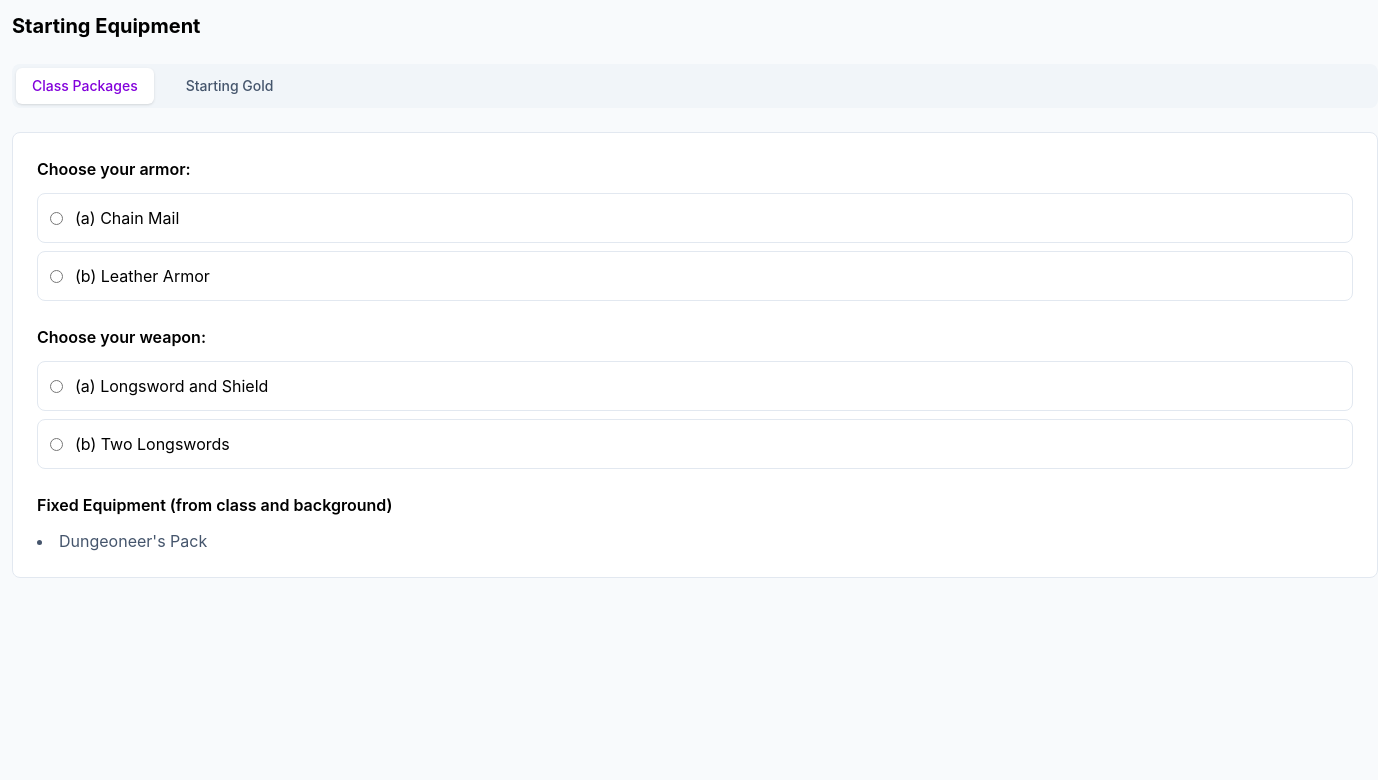
Scenario: EquipmentFeatsStep - Class Selected (Create Mode Level 1) › toggles to Starting Gold mode
Click the button "Starting Gold" at (230, 86), box [170, 68, 289, 104]
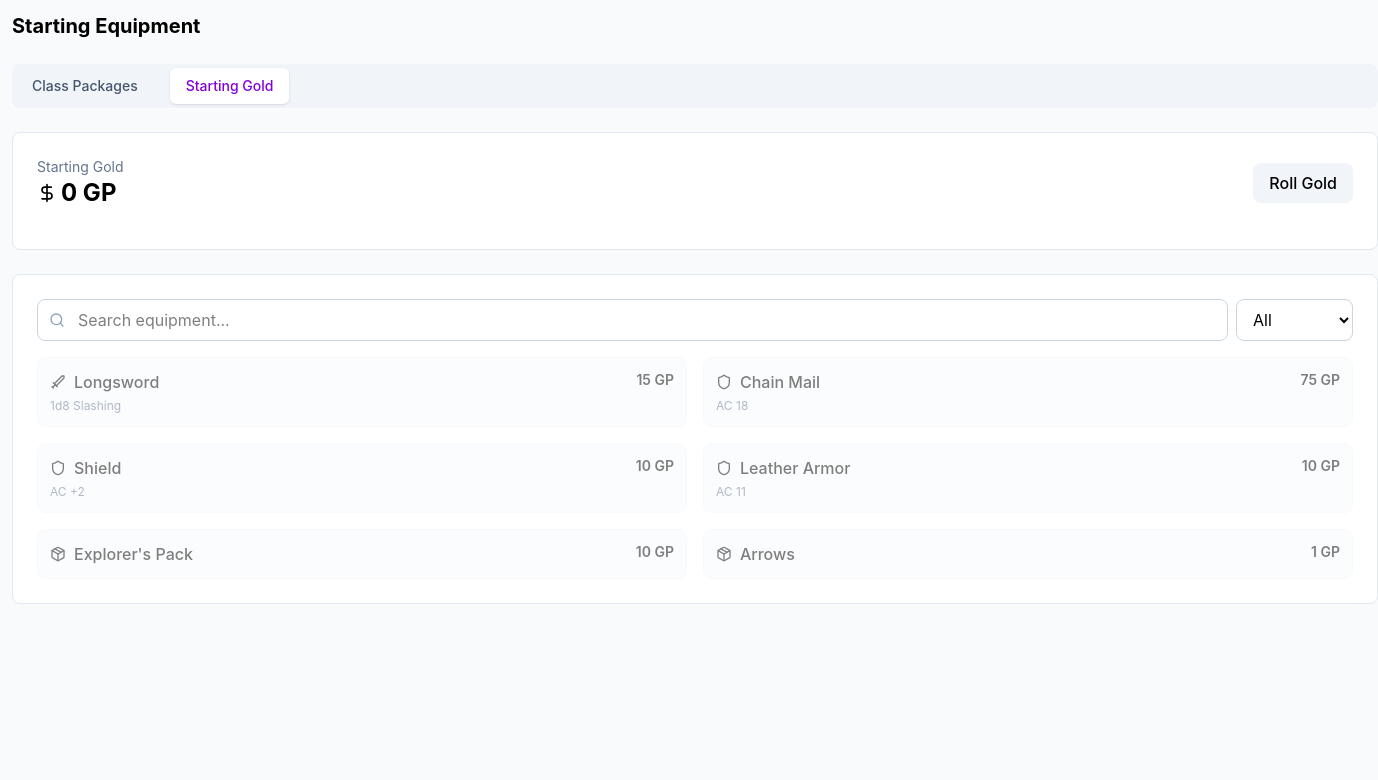
Result: the button "Roll Gold" is shown at [1253, 163, 1353, 203]
